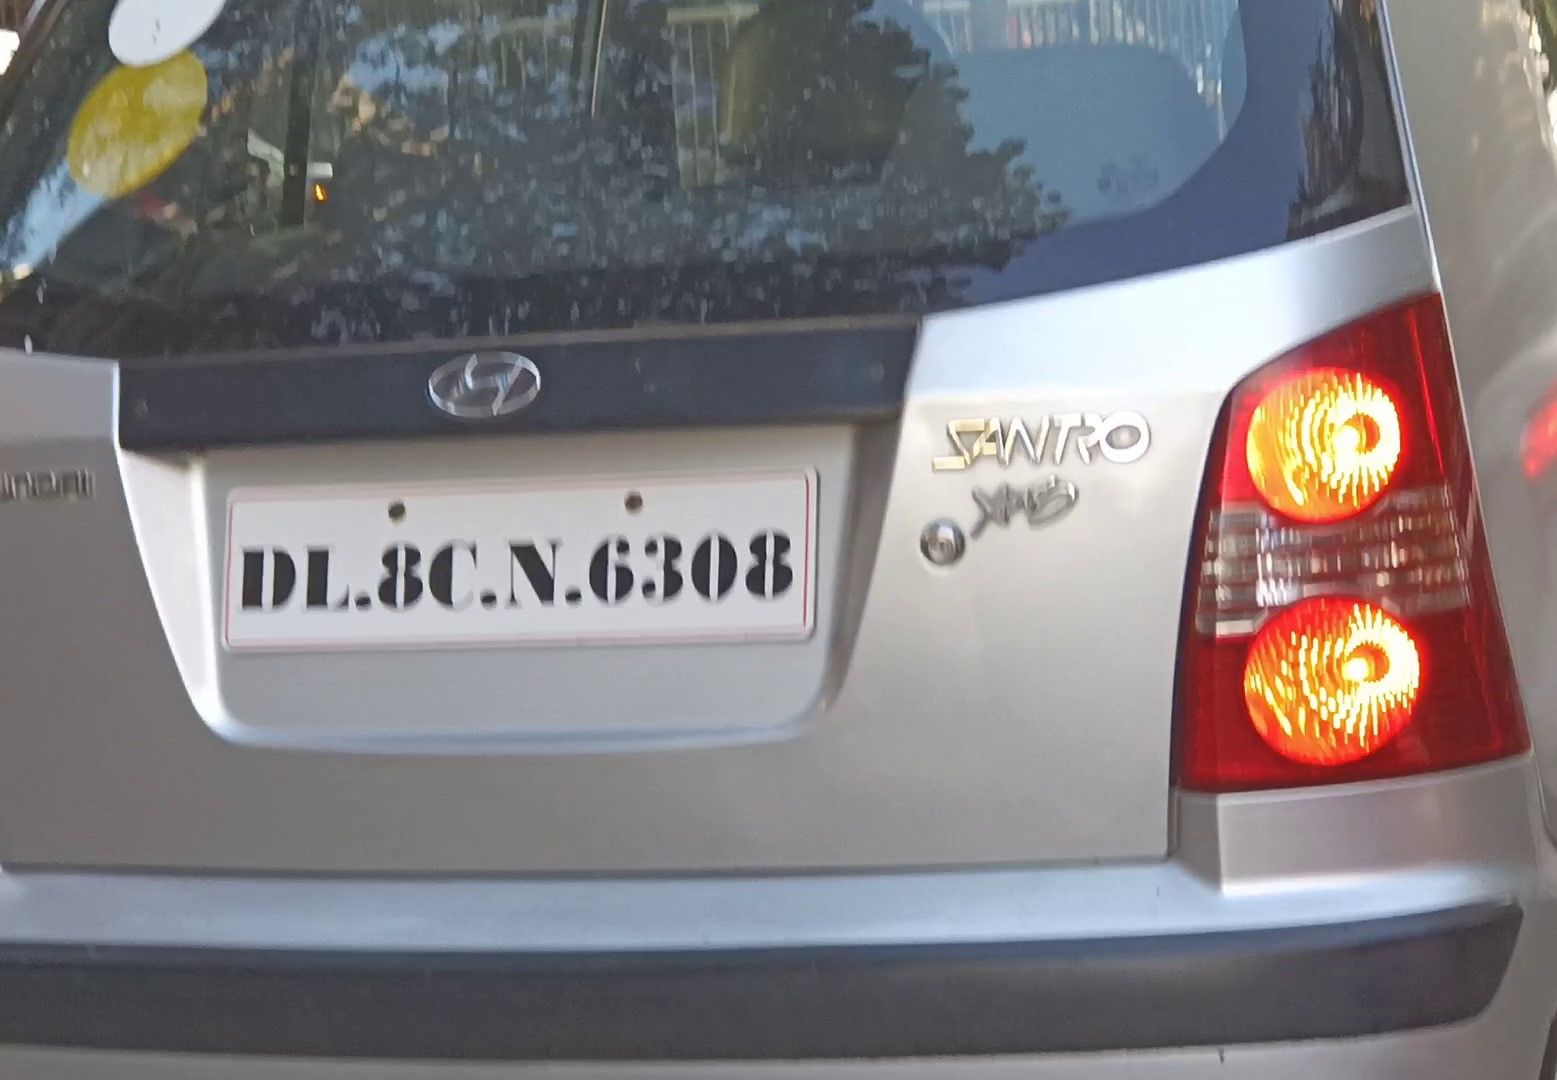DL8CN6308: (229, 474, 805, 649)
